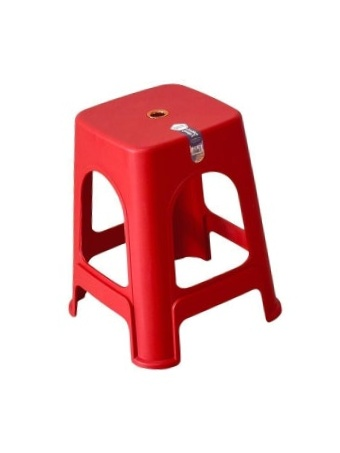plastic: (56, 72, 293, 381)
